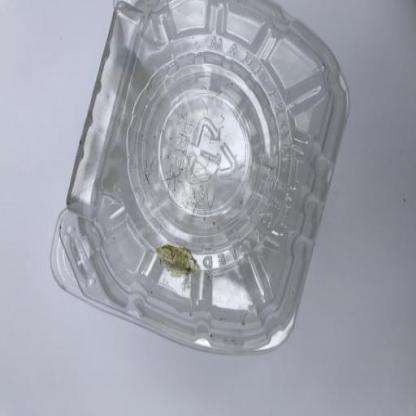trash: (48, 0, 352, 356)
